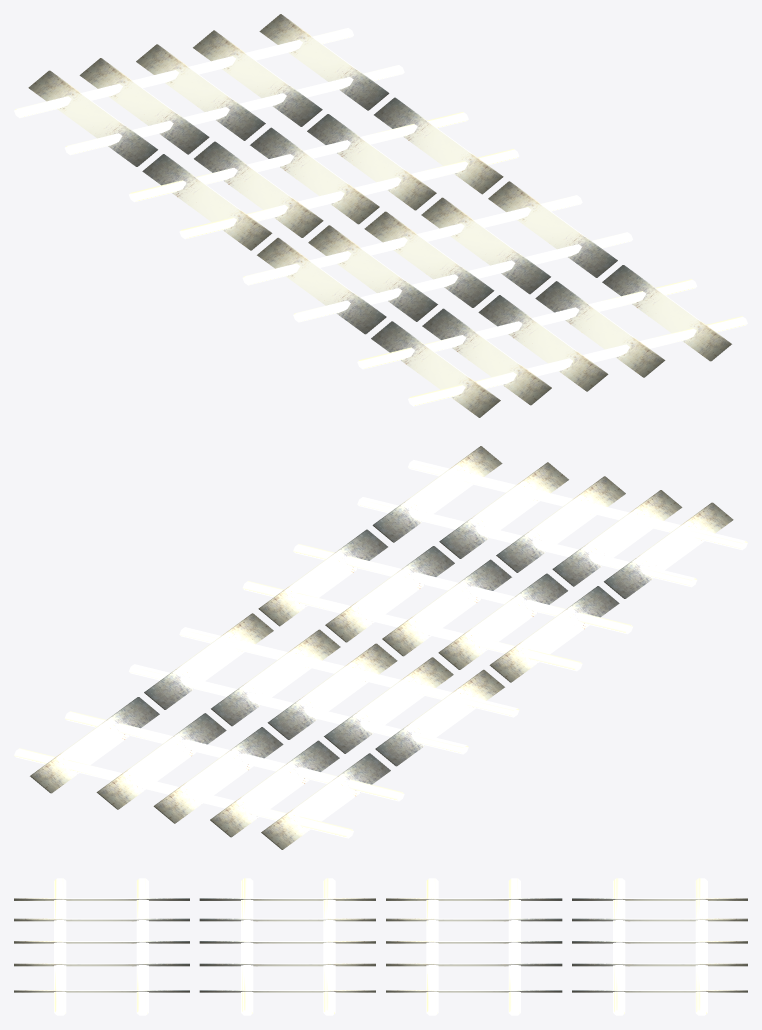
Rendered from CeilingLightBulbs.fbx.
3 views of the same model, one above another, from view 1: azimuth 30°, elevation 25°; view 2: azimuth 150°, elevation 25°; view 3: azimuth 270°, elevation 25° (orthographic). The views are drawn at different scales.
Visible parts, largest first — view 1: polySurface542; view 2: polySurface542; view 3: polySurface542.
Boxes of the visible parts, x1,y1,x2,y2 form: polySurface542: [14, 14, 747, 417]; polySurface542: [14, 446, 747, 849]; polySurface542: [14, 878, 747, 1015].
Size of the model in its own units: 39.52 by 1.44 by 92.77.
